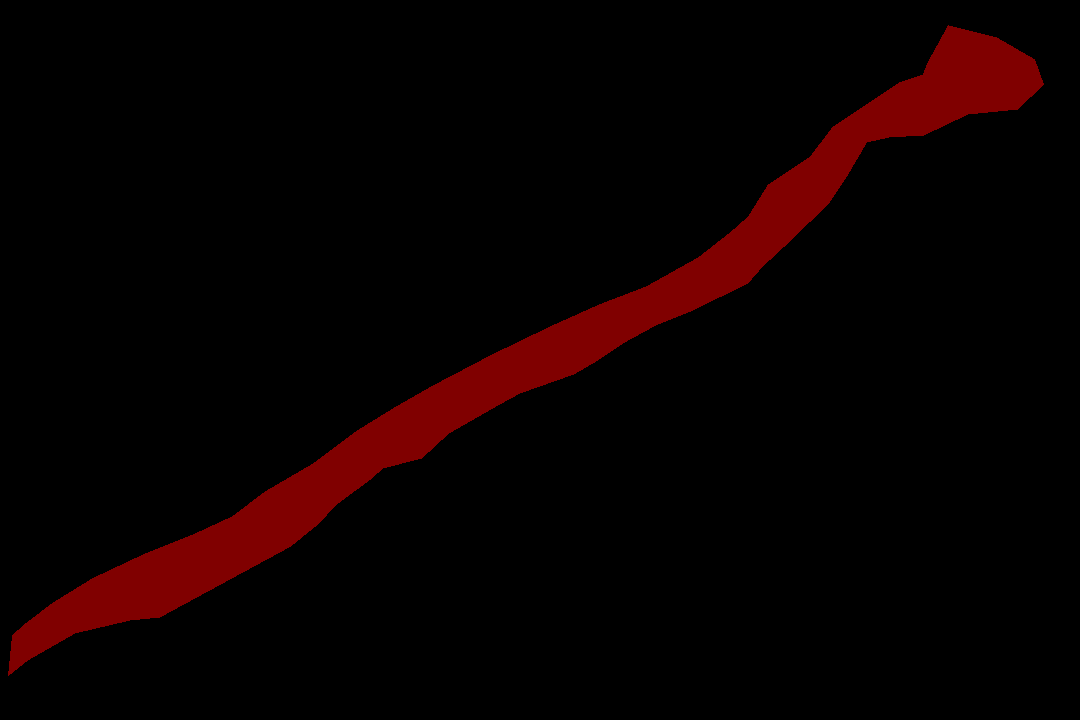fire: (8, 25, 1043, 675)
